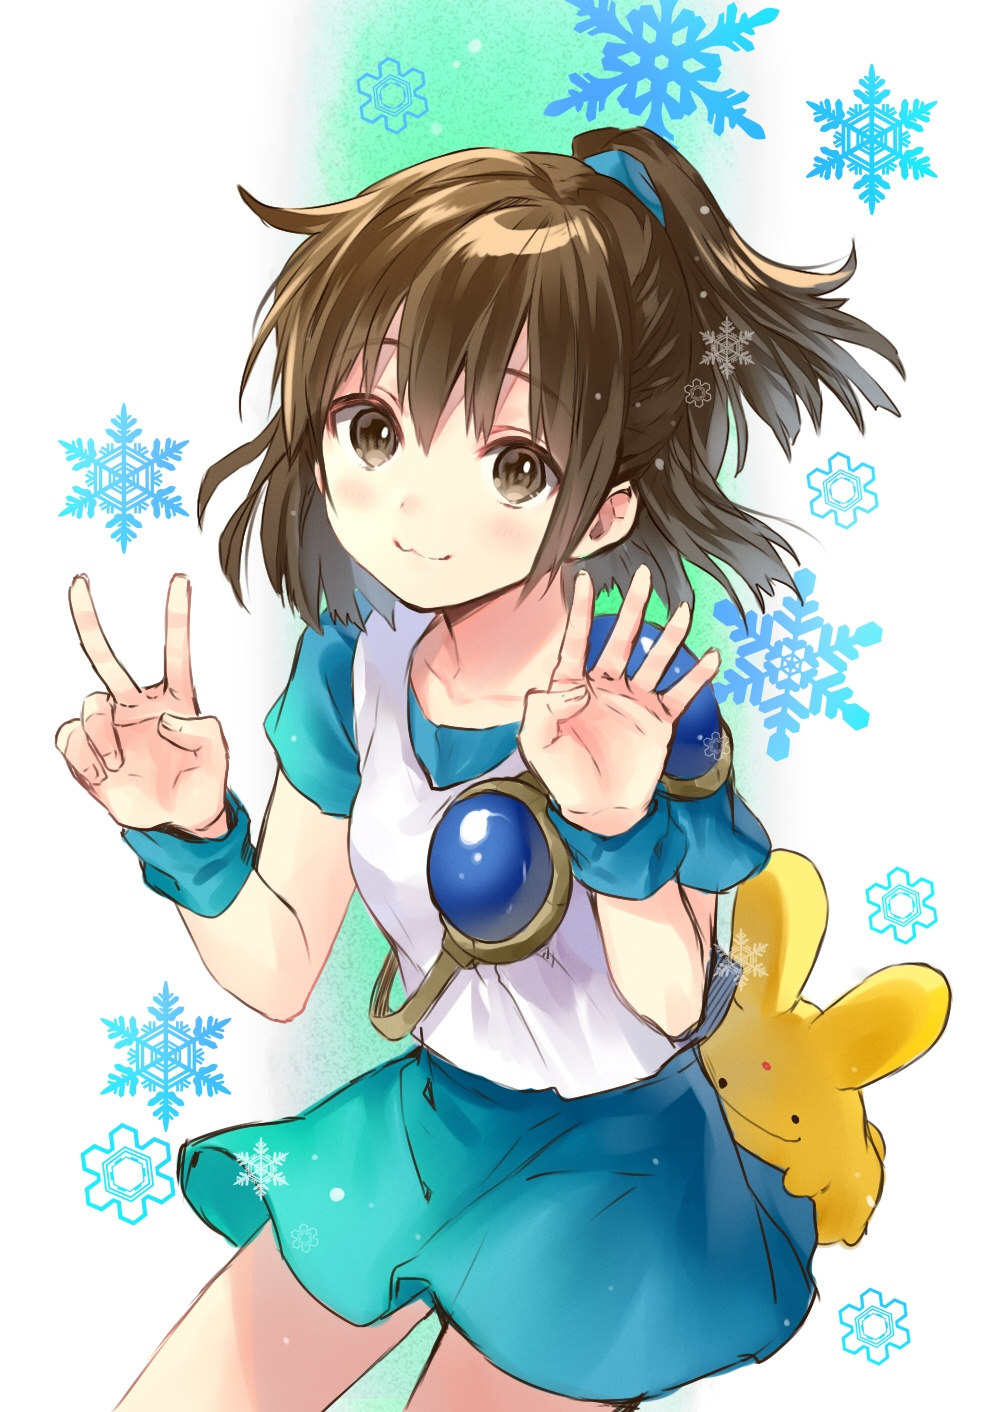纸片人正脸: (247, 139, 766, 634), (421, 785, 565, 947)
